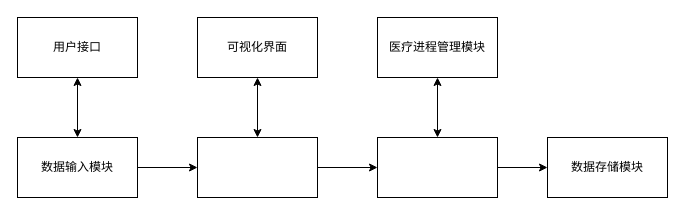
Image size: 685x215. Some labels were removed from this diagram. Here are the shapes that lost their labels. From the top down, the centre of each, then its label:
At point (257, 167): "数据清洗模块".
At point (437, 167): "数据分析模块".
